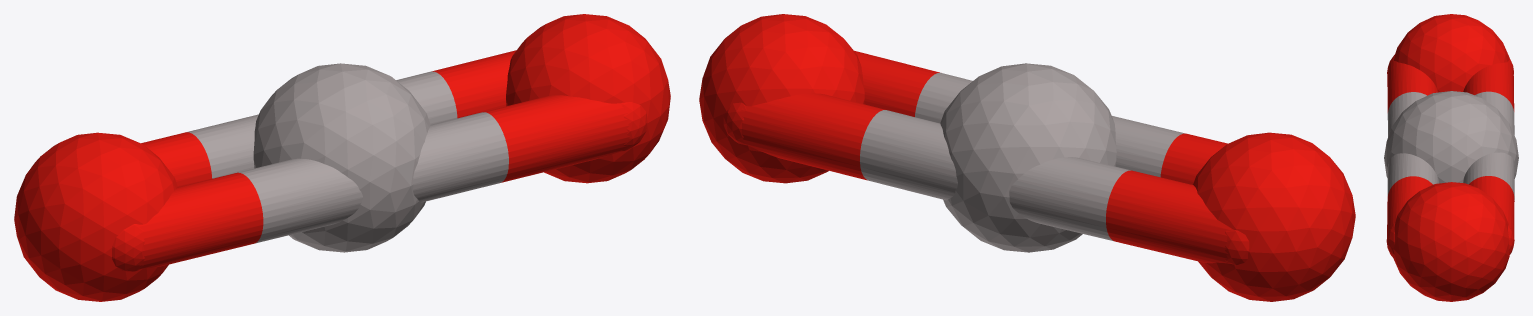
3 renders of one model, left to right at view 1: azimuth 30°, elevation 25°; view 2: azimuth 150°, elevation 25°; view 3: azimuth 270°, elevation 25°, orthographic. The views are drawn at different scales.
Visible parts, largest first — view 1: Shape_IndexedFaceSet.002, Shape_IndexedFaceSet, Shape_IndexedFaceSet.001, Shape_IndexedFaceSet.007, Shape_IndexedFaceSet.011, Shape_IndexedFaceSet.013, Shape_IndexedFaceSet.009, Shape_IndexedFaceSet.003, Shape_IndexedFaceSet.017, Shape_IndexedFaceSet.015, Shape_IndexedFaceSet.005, Shape_IndexedFaceSet.012 (+1 smaller); view 2: Shape_IndexedFaceSet.002, Shape_IndexedFaceSet, Shape_IndexedFaceSet.001, Shape_IndexedFaceSet.003, Shape_IndexedFaceSet.015, Shape_IndexedFaceSet.005, Shape_IndexedFaceSet.017, Shape_IndexedFaceSet.007, Shape_IndexedFaceSet.013, Shape_IndexedFaceSet.011, Shape_IndexedFaceSet.009, Shape_IndexedFaceSet.016 (+1 smaller); view 3: Shape_IndexedFaceSet.001, Shape_IndexedFaceSet.002, Shape_IndexedFaceSet, Shape_IndexedFaceSet.011, Shape_IndexedFaceSet.015, Shape_IndexedFaceSet.005, Shape_IndexedFaceSet.009, Shape_IndexedFaceSet.007, Shape_IndexedFaceSet.003, Shape_IndexedFaceSet.013, Shape_IndexedFaceSet.017, Shape_IndexedFaceSet.008 (+1 smaller).
Part boxes in pixels (left/top/right/bottom): Shape_IndexedFaceSet.002: left=253, top=63, right=430, bottom=252; Shape_IndexedFaceSet: left=14, top=132, right=177, bottom=301; Shape_IndexedFaceSet.001: left=506, top=14, right=670, bottom=183; Shape_IndexedFaceSet.007: left=483, top=95, right=629, bottom=182; Shape_IndexedFaceSet.011: left=138, top=172, right=263, bottom=269; Shape_IndexedFaceSet.013: left=238, top=158, right=362, bottom=243; Shape_IndexedFaceSet.009: left=413, top=112, right=508, bottom=202; Shape_IndexedFaceSet.003: left=432, top=50, right=516, bottom=118; Shape_IndexedFaceSet.017: left=186, top=114, right=258, bottom=178; Shape_IndexedFaceSet.015: left=141, top=132, right=212, bottom=186; Shape_IndexedFaceSet.005: left=396, top=71, right=457, bottom=124; Shape_IndexedFaceSet.012: left=112, top=224, right=144, bottom=271; Shape_IndexedFaceSet.002: left=940, top=63, right=1116, bottom=252; Shape_IndexedFaceSet: left=1193, top=132, right=1355, bottom=301; Shape_IndexedFaceSet.001: left=699, top=14, right=864, bottom=183; Shape_IndexedFaceSet.003: left=741, top=93, right=885, bottom=180; Shape_IndexedFaceSet.015: left=1106, top=170, right=1231, bottom=263; Shape_IndexedFaceSet.005: left=860, top=110, right=957, bottom=200; Shape_IndexedFaceSet.017: left=1009, top=157, right=1130, bottom=241; Shape_IndexedFaceSet.007: left=854, top=50, right=939, bottom=116; Shape_IndexedFaceSet.013: left=1112, top=116, right=1185, bottom=177; Shape_IndexedFaceSet.011: left=1160, top=133, right=1227, bottom=184; Shape_IndexedFaceSet.009: left=915, top=72, right=972, bottom=123; Shape_IndexedFaceSet.016: left=1225, top=228, right=1249, bottom=265; Shape_IndexedFaceSet.001: left=1393, top=182, right=1509, bottom=301; Shape_IndexedFaceSet.002: left=1384, top=91, right=1518, bottom=183; Shape_IndexedFaceSet: left=1394, top=14, right=1509, bottom=92; Shape_IndexedFaceSet.011: left=1387, top=58, right=1438, bottom=112; Shape_IndexedFaceSet.015: left=1463, top=60, right=1514, bottom=111; Shape_IndexedFaceSet.005: left=1463, top=152, right=1514, bottom=199; Shape_IndexedFaceSet.009: left=1387, top=153, right=1439, bottom=195; Shape_IndexedFaceSet.007: left=1387, top=176, right=1432, bottom=236; Shape_IndexedFaceSet.003: left=1469, top=176, right=1514, bottom=236; Shape_IndexedFaceSet.013: left=1387, top=92, right=1426, bottom=136; Shape_IndexedFaceSet.017: left=1475, top=91, right=1514, bottom=134; Shape_IndexedFaceSet.008: left=1386, top=223, right=1395, bottom=258.
Bounding box in the file's own units: 30.04 × 7.82 × 7.82.
